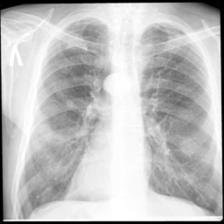tuberculosis: (12, 12, 222, 218)
